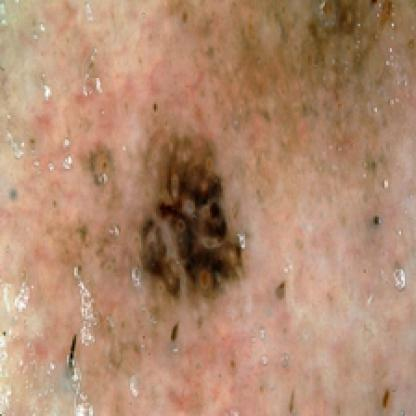malignant: (122, 128, 250, 299)
